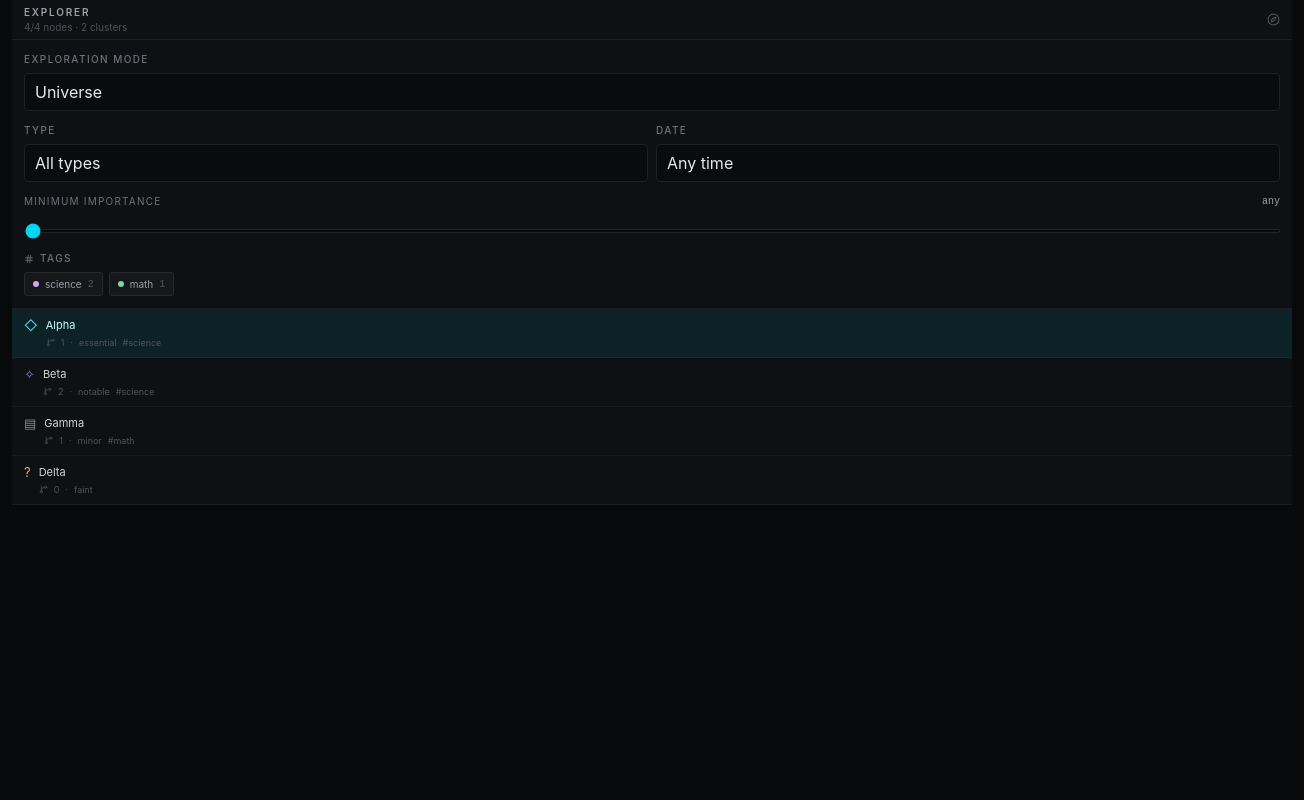
it: ExplorerPanel › offers hop controls centered on the selected node
Select "1-hop" in the dropdown labelled "Exploration mode" at [652, 92], box x1=24 y1=73 x2=1280 y2=111
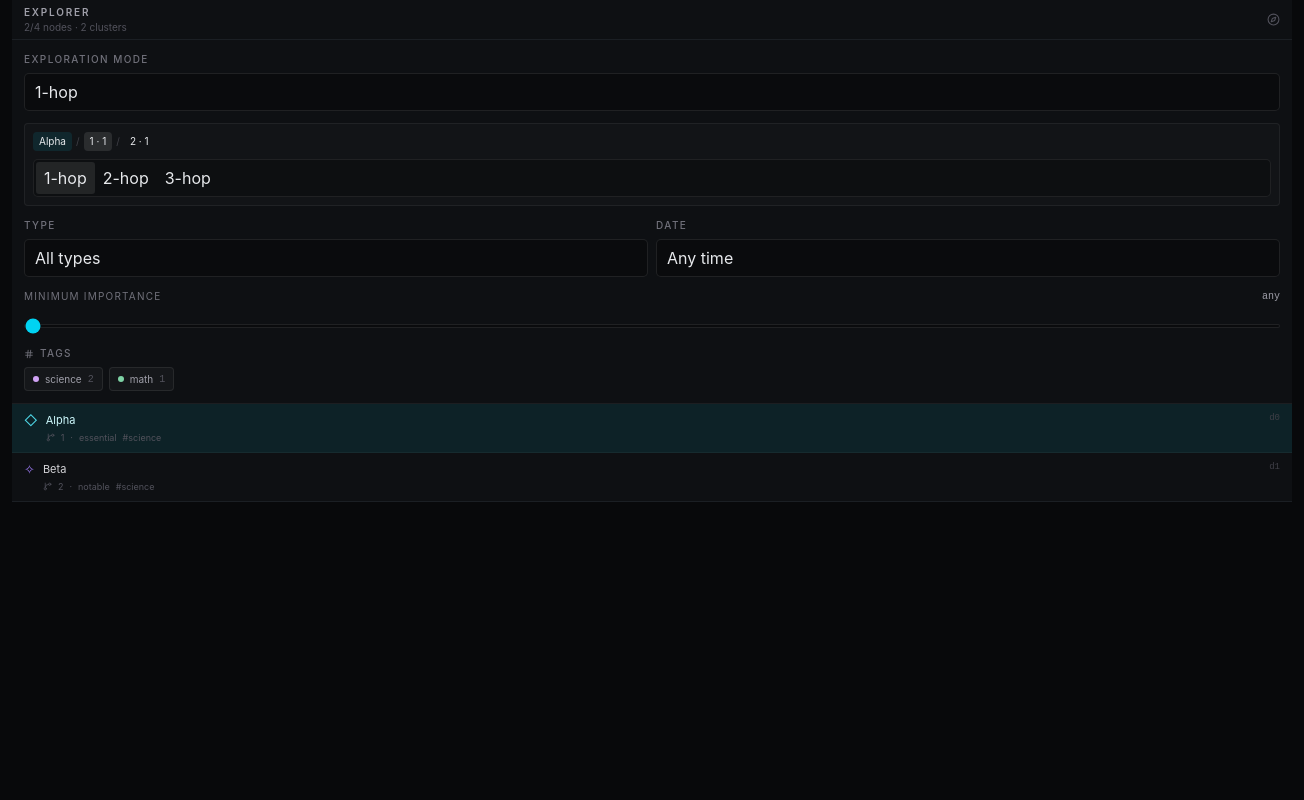
Check: the text "2/4 nodes · 2 clusters" is shown, box x1=24 y1=20 x2=127 y2=32
Check: the button "2 · 1" is shown, box x1=124 y1=132 x2=155 y2=151
Click the tab "2-hop" at [126, 178], box x1=95 y1=162 x2=157 y2=194
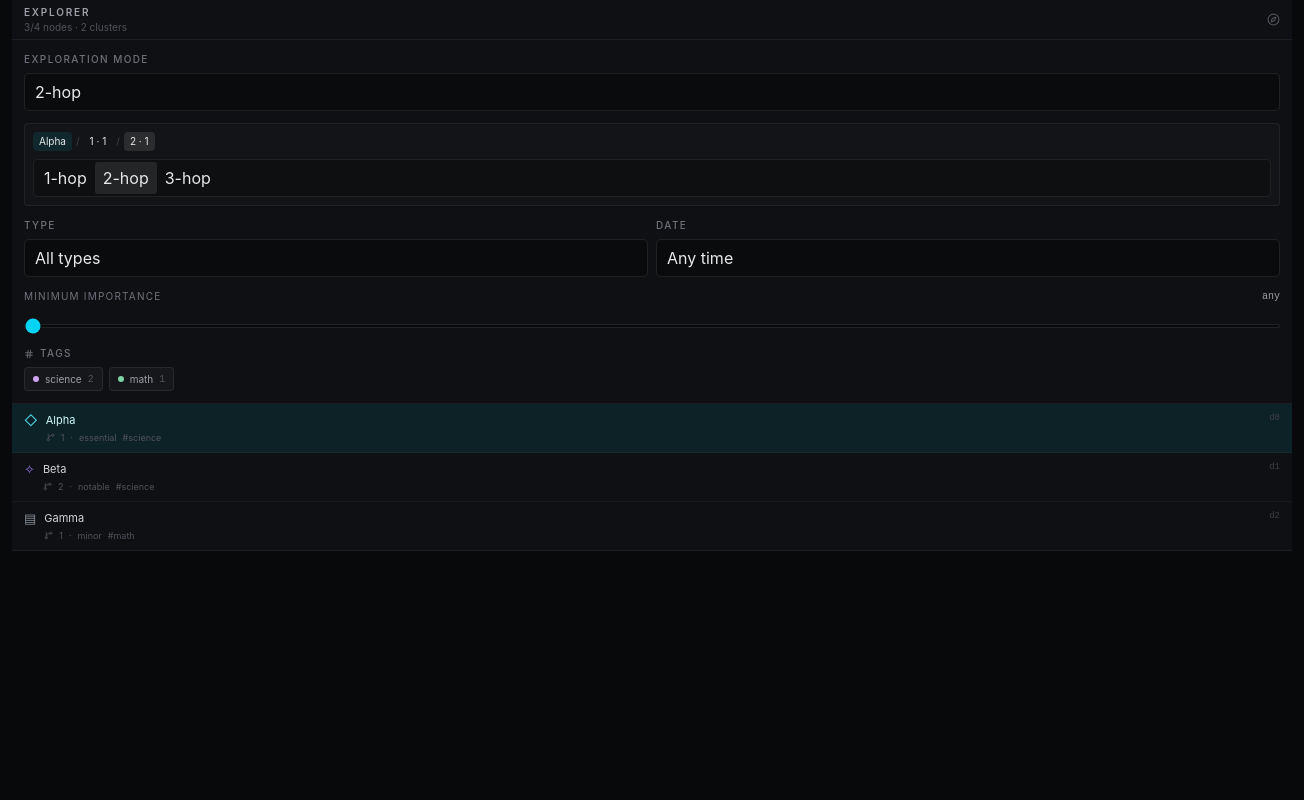
Check: the text "3/4 nodes · 2 clusters" is shown, box x1=24 y1=20 x2=127 y2=32
Check: the text "Gamma" is shown, box x1=44 y1=511 x2=84 y2=525
